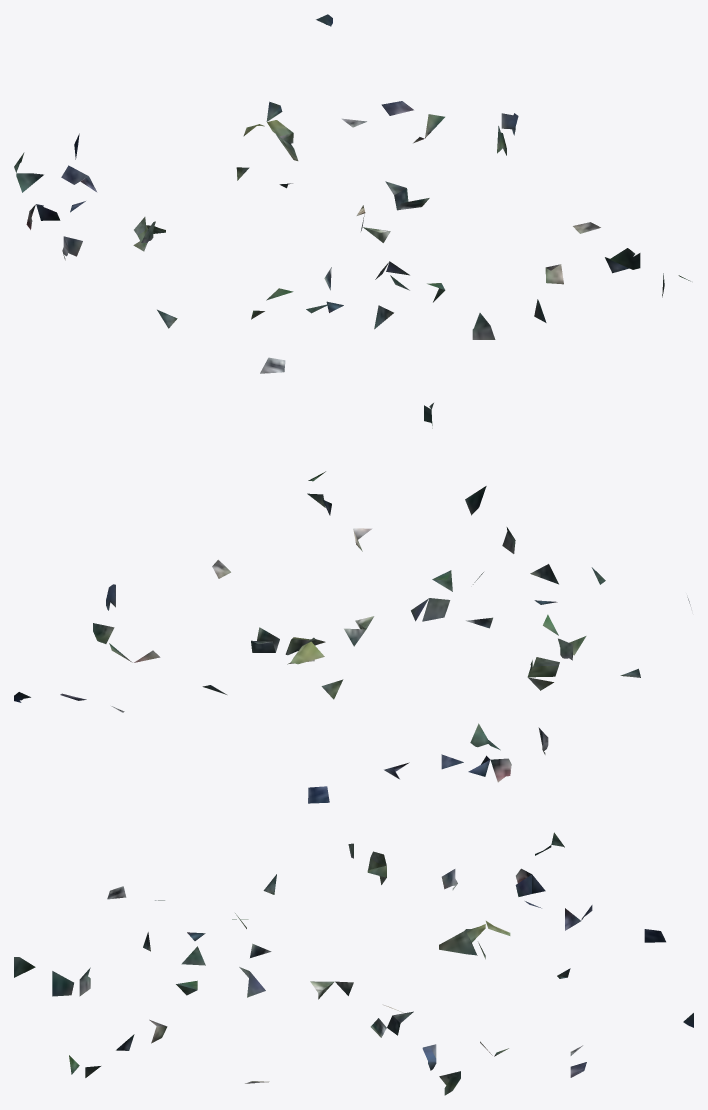
The picture shows the model from 3 angles, top to bottom: view 1: azimuth 30°, elevation 25°; view 2: azimuth 150°, elevation 25°; view 3: azimuth 270°, elevation 25°; orthographic projection. The views are drawn at different scales.
Parts seen in each view (by area): view 1: 3043627270436173552_1; view 2: 3043627270436173552_1; view 3: 3043627270436173552_1.
Boxes of the visible parts, left/top/right/bottom form: 3043627270436173552_1: left=14, top=14, right=690, bottom=373; 3043627270436173552_1: left=14, top=403, right=691, bottom=803; 3043627270436173552_1: left=14, top=832, right=693, bottom=1095.
Bounding box in the file's own units: 54.61 × 11.4 × 76.51.
1 material, 1 textured.
